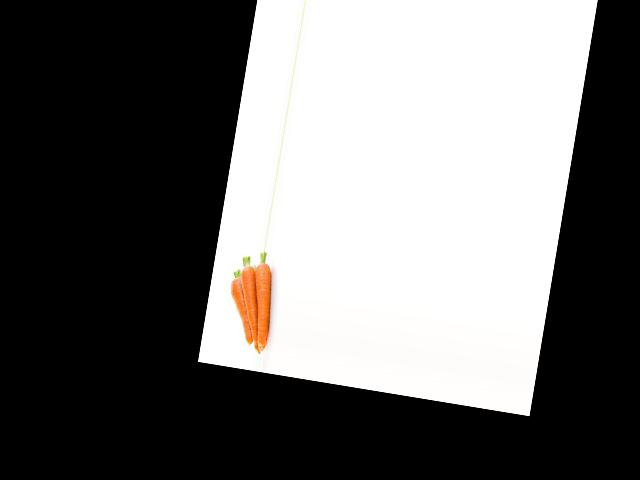carrot: (245, 256, 279, 350)
